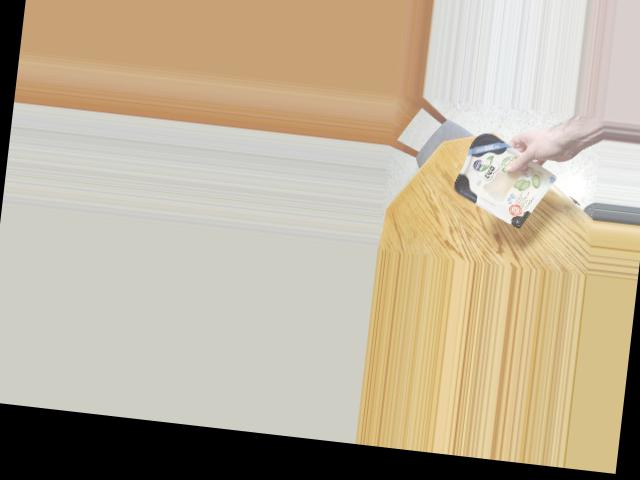cheese: (450, 124, 550, 225)
